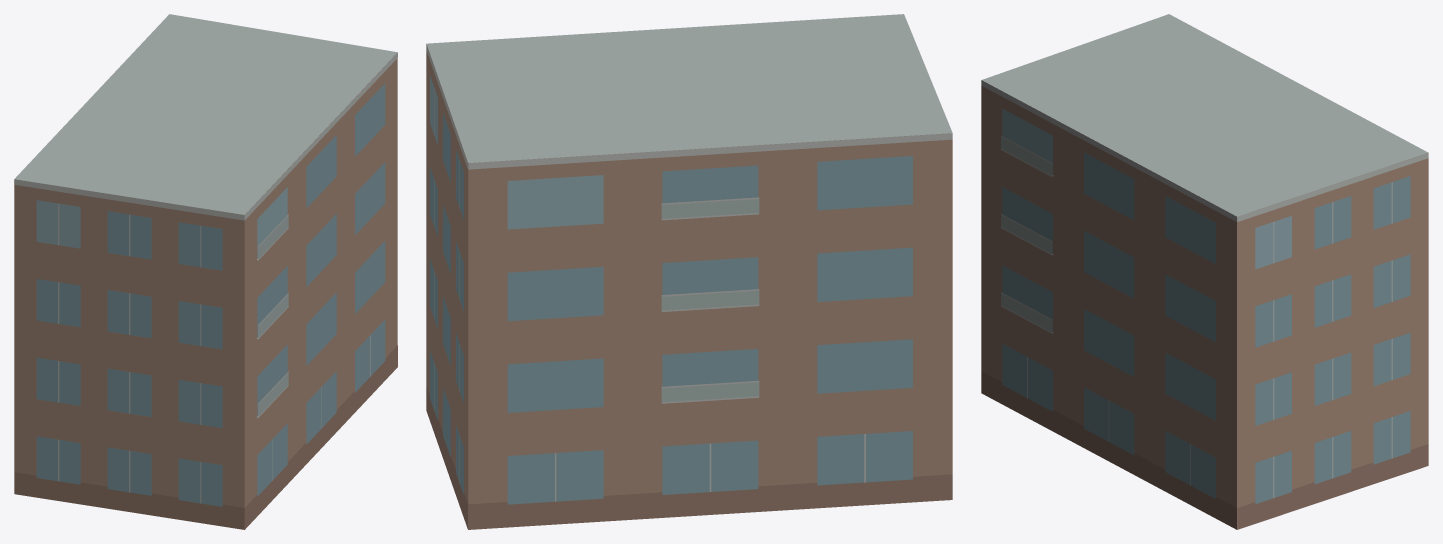
Rendered from survey-upis-33004869.glb.
3 renders of one model, left to right at view 1: azimuth 30°, elevation 25°; view 2: azimuth 150°, elevation 25°; view 3: azimuth 270°, elevation 25°, orthographic. The views are drawn at different scales.
Visible parts, largest first — view 1: survey-upis-33004869.tmp; view 2: survey-upis-33004869.tmp; view 3: survey-upis-33004869.tmp.
Boxes of the visible parts, x1,y1,x2,y2 form: survey-upis-33004869.tmp: [14, 14, 397, 529]; survey-upis-33004869.tmp: [426, 14, 952, 529]; survey-upis-33004869.tmp: [981, 14, 1428, 529].
Bounding box in the file's own units: 19.16 × 13.8 × 17.86.
